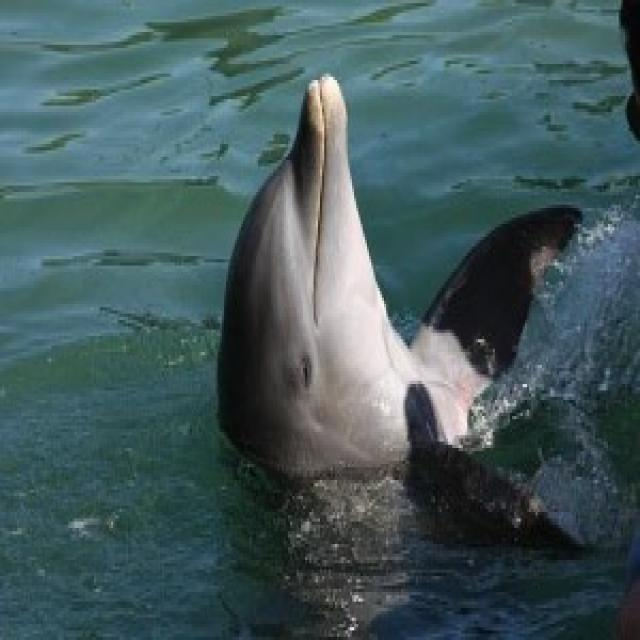Dolphin: (206, 59, 600, 605)
